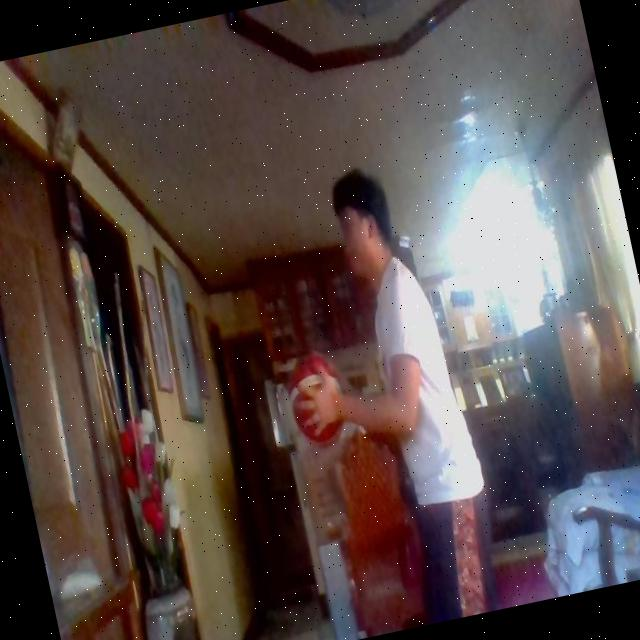ball: (267, 334, 351, 458)
